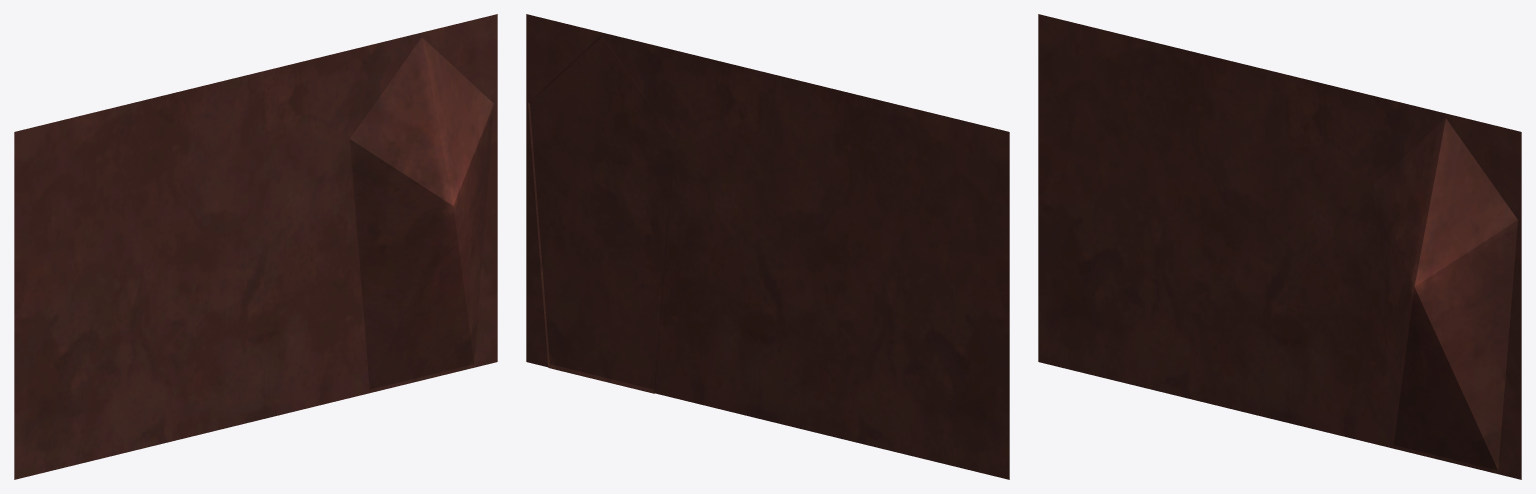
The model's file is lava_half_straight_01.fbx.
3 views of the same model, side by side, from view 1: azimuth 30°, elevation 25°; view 2: azimuth 150°, elevation 25°; view 3: azimuth 330°, elevation 25° (orthographic).
Parts seen in each view (by area): view 1: obj1.016; view 2: obj1.016; view 3: obj1.016.
Boxes of the visible parts, x1,y1,x2,y2 form: obj1.016: (14,14,497,479); obj1.016: (526,14,1009,479); obj1.016: (1038,14,1521,479).
Bounding box in the file's own units: 4 × 2.75 × 0.4583.
